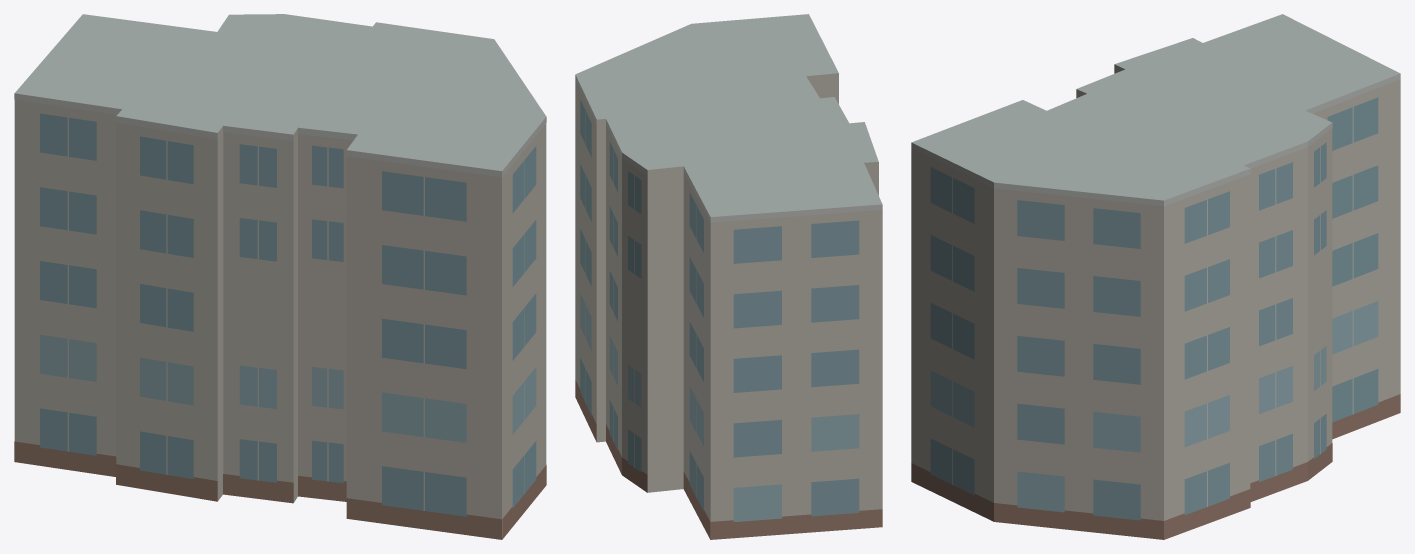
File: survey-upis-32949654.glb
The picture shows the model from 3 angles, left to right: view 1: azimuth 30°, elevation 25°; view 2: azimuth 150°, elevation 25°; view 3: azimuth 270°, elevation 25°; orthographic projection. The views are drawn at different scales.
Parts seen in each view (by area): view 1: survey-upis-32949654.tmp; view 2: survey-upis-32949654.tmp; view 3: survey-upis-32949654.tmp.
Part boxes in pixels (x1,y1,x2,y2): survey-upis-32949654.tmp: [14, 14, 546, 539]; survey-upis-32949654.tmp: [575, 14, 882, 539]; survey-upis-32949654.tmp: [911, 14, 1400, 539].
Bounding box in the file's own units: 16.99 × 14.4 × 18.83.
